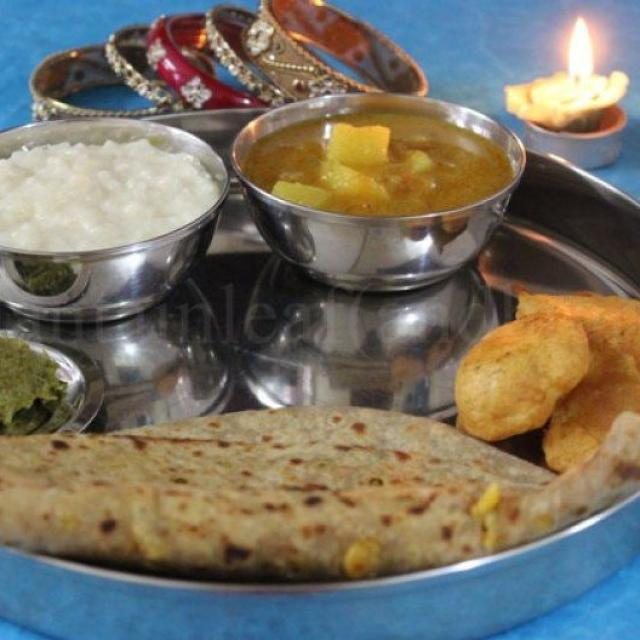potato: (264, 100, 502, 209)
